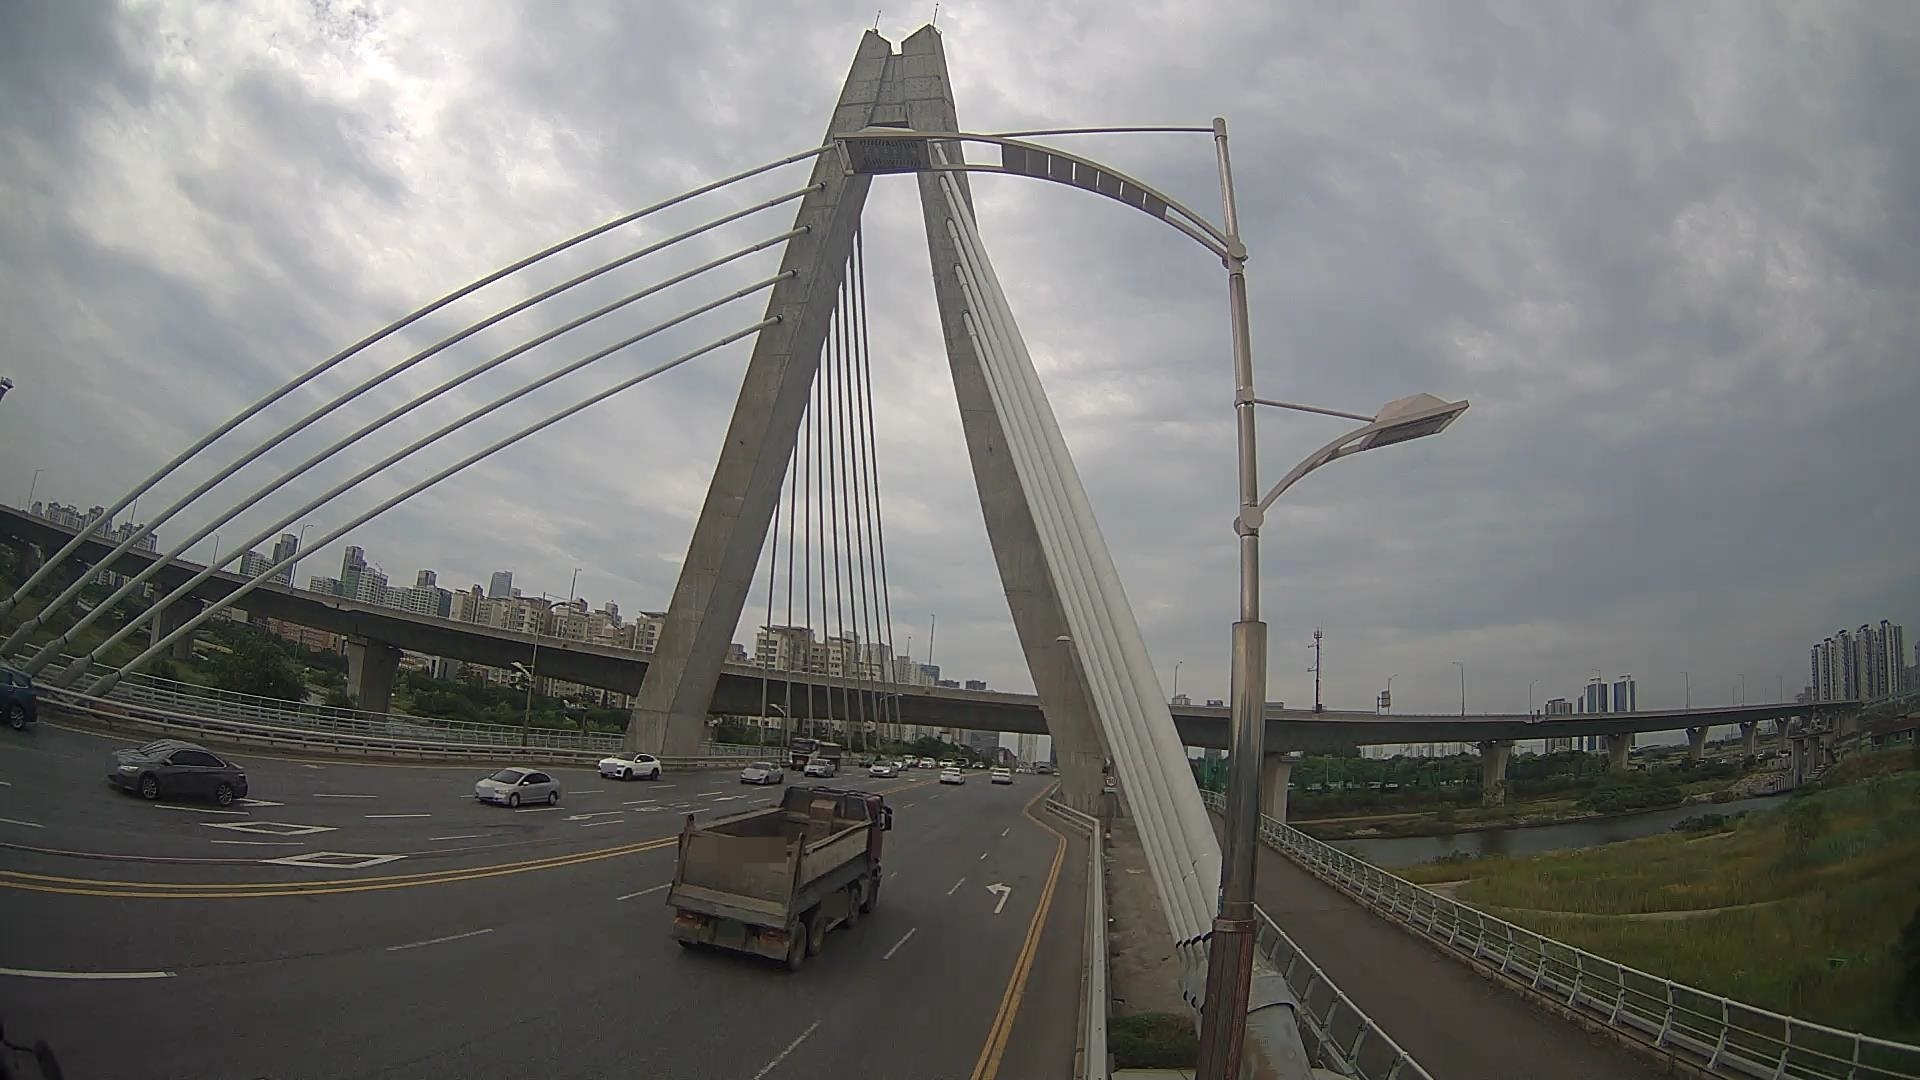정상차량: (666, 785, 893, 970)
